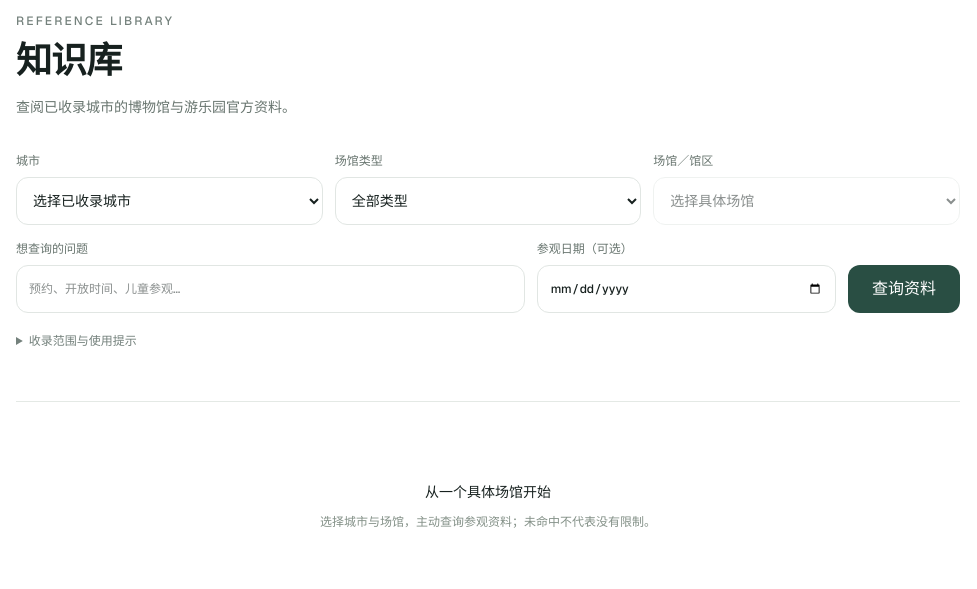
Scenario: national reference page remains retrieval-only › no result is not admission advice and does not produce AI status/judgments
The width and height of the screenshot is (977, 589).
Select "上海" in the dropdown labelled "城市" at (169, 201), box [16, 177, 323, 225]
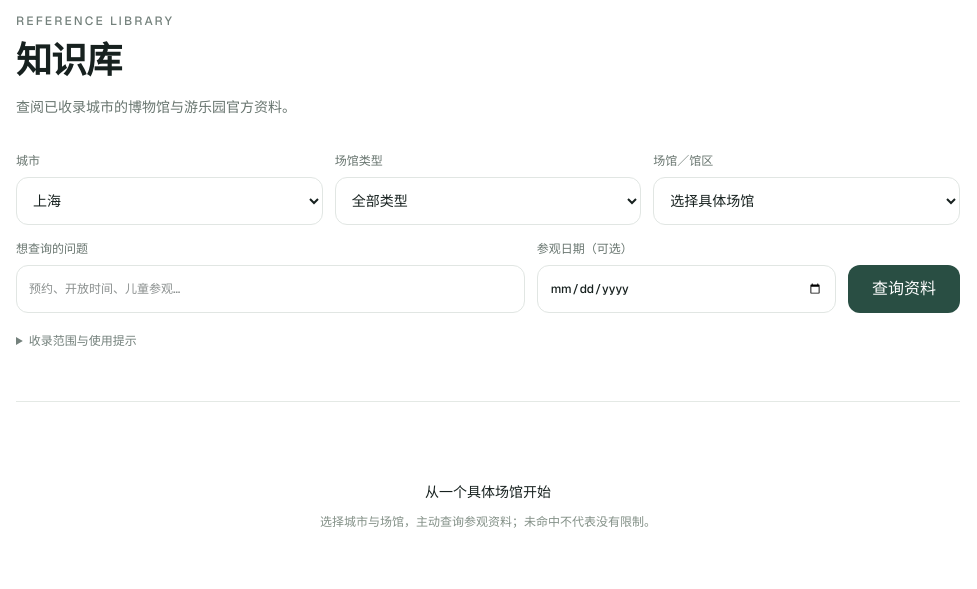
Select "受控上海馆" in the dropdown labelled "场馆／馆区" at (807, 201), box [653, 177, 960, 225]
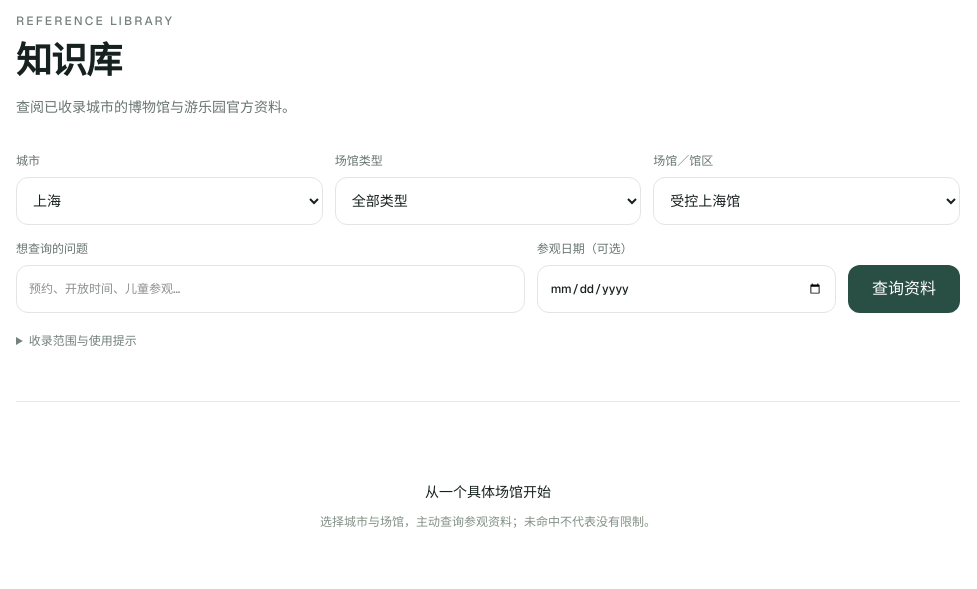
Type "预约说明" into the field labelled "想查询的问题" at (270, 289), box [16, 265, 525, 313]
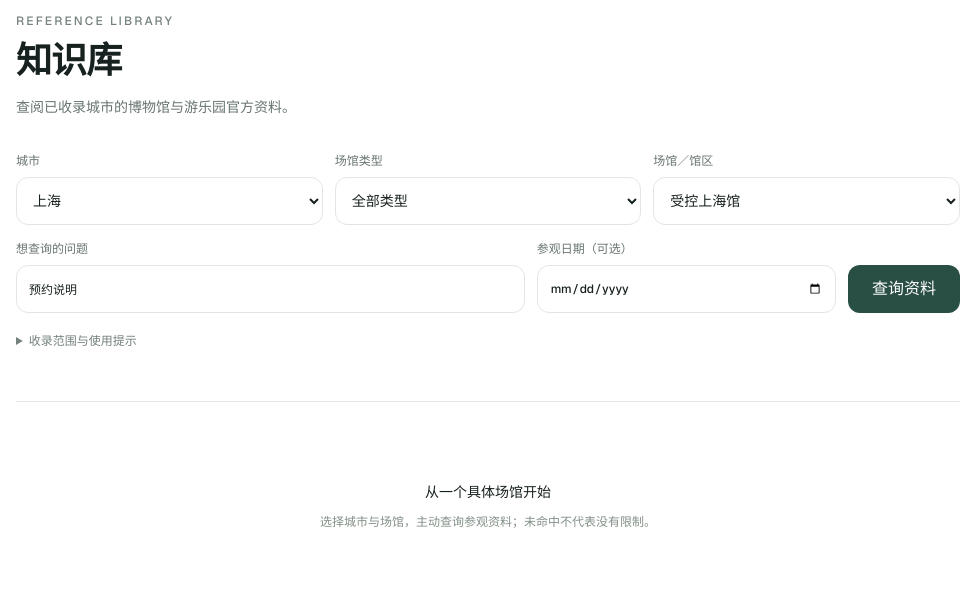
Submit the form "查询资料", box [16, 153, 960, 313]
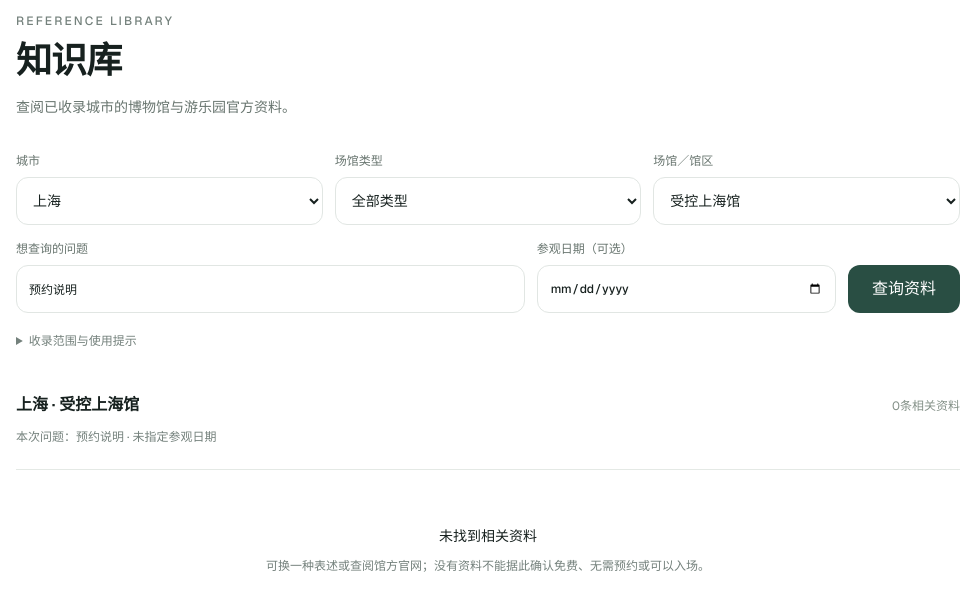
Expected: the text "未找到相关资料" is shown, [439, 527, 537, 545]
